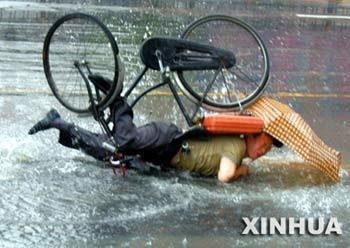falling: (27, 73, 289, 194)
